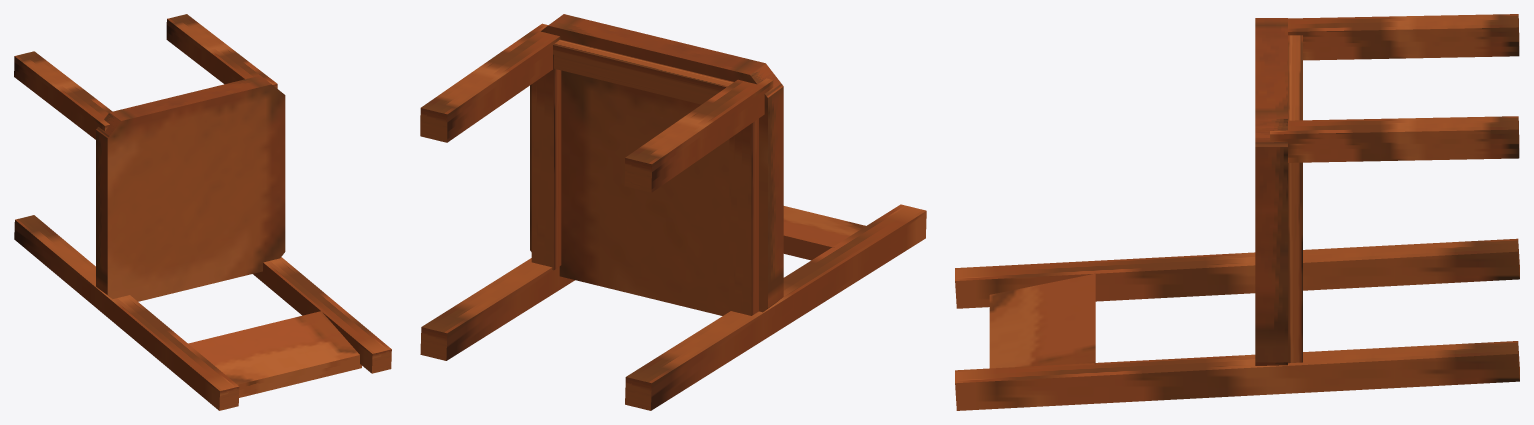
Rendered from pz_orange_wooden_chair_fidelity_r1.obj.
3 views of the same model, side by side, from view 1: azimuth 30°, elevation 25°; view 2: azimuth 150°, elevation 25°; view 3: azimuth 270°, elevation 25° (orthographic). The views are drawn at different scales.
Visible parts, largest first — view 1: pz_orange_wooden_chair_fidelity_r1; view 2: pz_orange_wooden_chair_fidelity_r1; view 3: pz_orange_wooden_chair_fidelity_r1.
Part boxes in pixels (x1,y1,x2,y2): pz_orange_wooden_chair_fidelity_r1: (14,14,391,410); pz_orange_wooden_chair_fidelity_r1: (420,14,926,410); pz_orange_wooden_chair_fidelity_r1: (955,14,1519,410).
Size of the model in its own units: 0.477 by 0.5425 by 0.958.
1 material, 1 textured.
